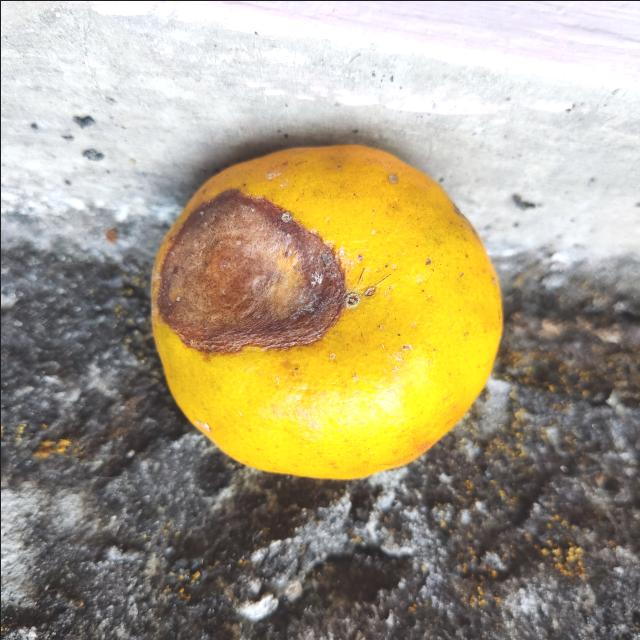orange: (145, 139, 506, 483)
